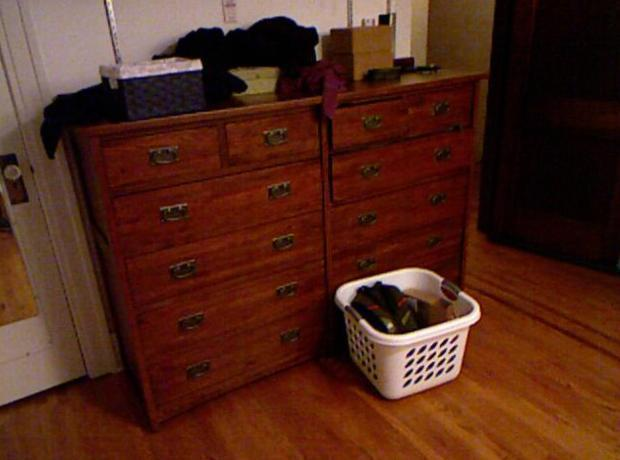Armario: (85, 110, 327, 422), (329, 101, 471, 359)
